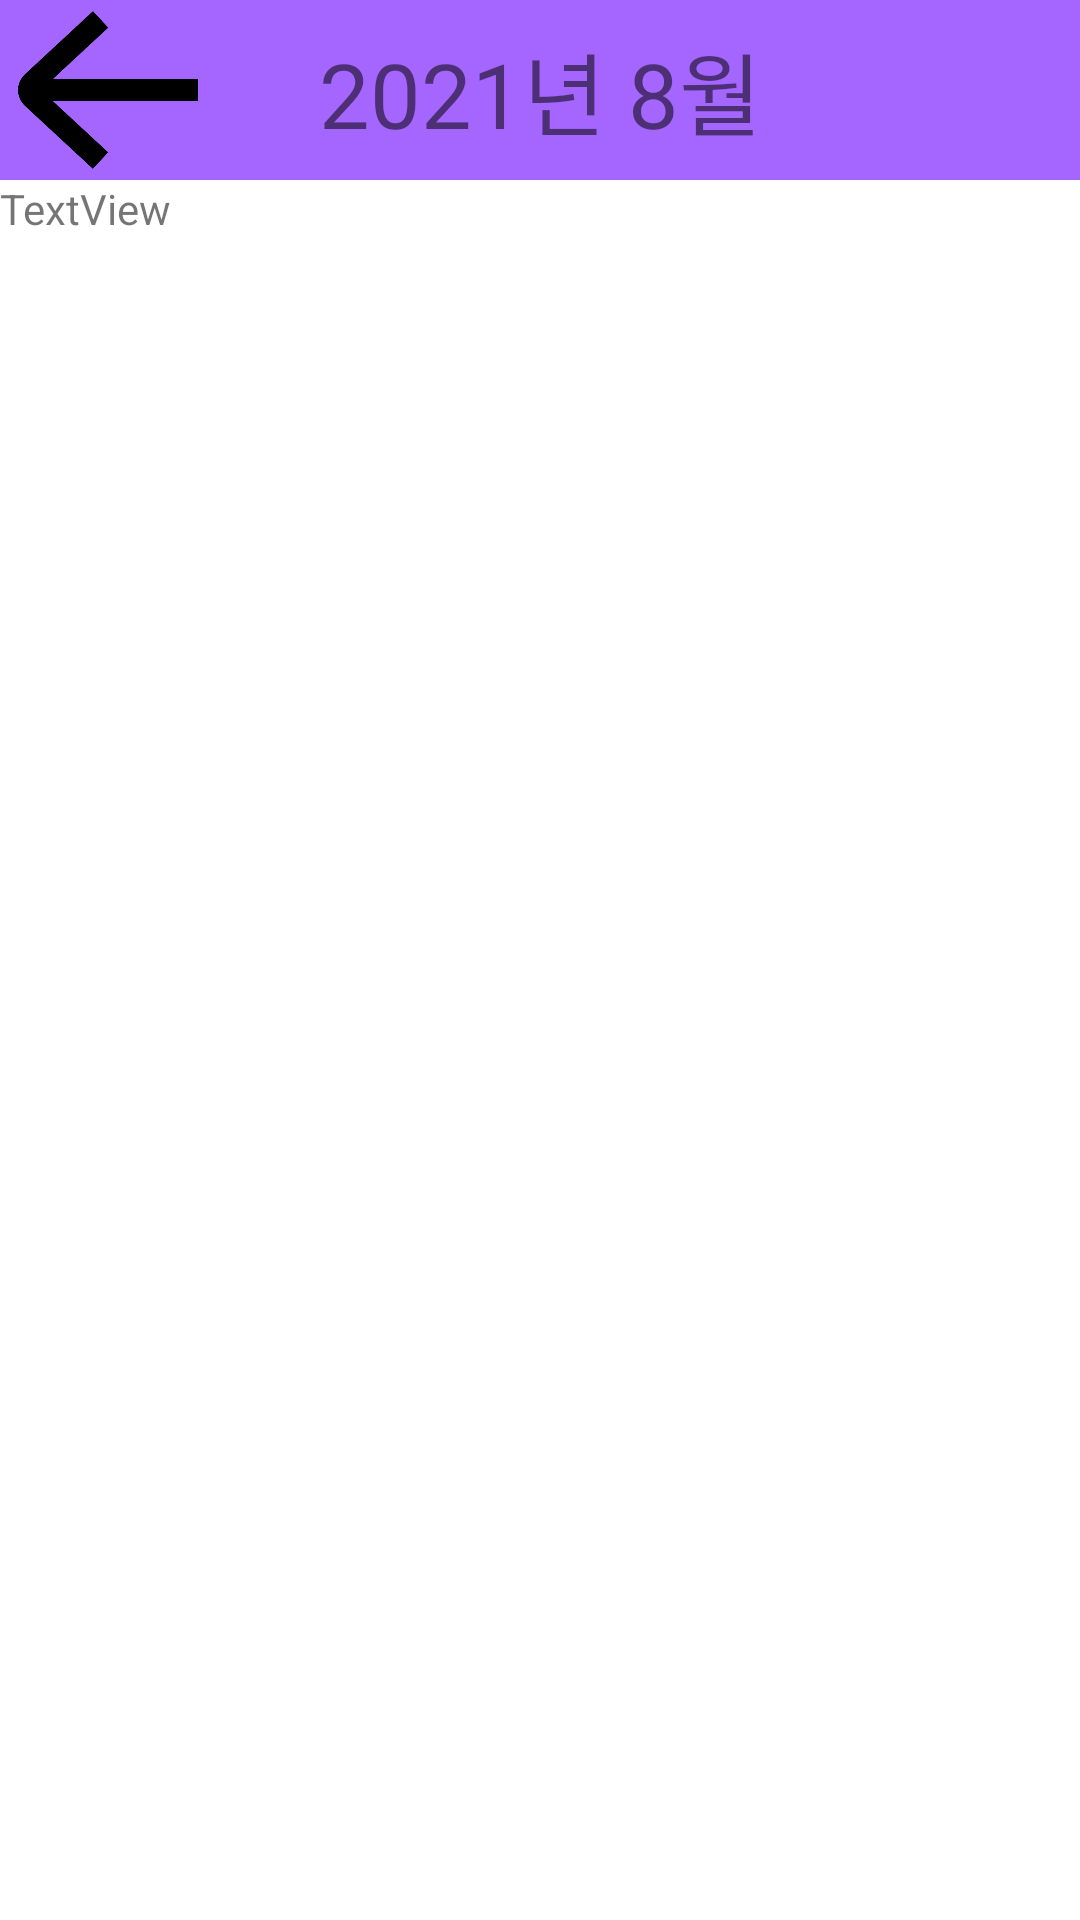

Icon click points for this 1080*1920 phone screenshot, format (x,y):
left arrow: (108,90)
